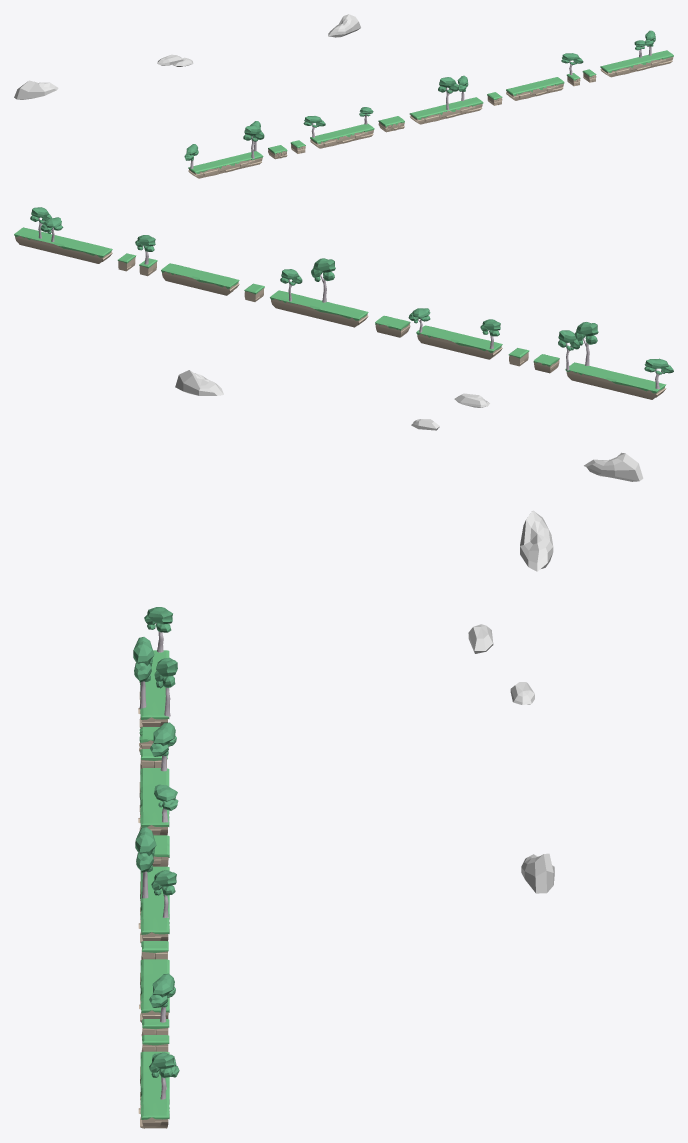
File: Level6.fbx
The picture shows the model from 3 angles, top to bottom: view 1: azimuth 30°, elevation 25°; view 2: azimuth 150°, elevation 25°; view 3: azimuth 270°, elevation 25°; orthographic projection. The views are drawn at different scales.
Parts seen in each view (by area): view 1: pCube42, pCube47, pCube52, pCube46, pCube49, pSphere6, pSphere9, pCube43, polySurface7, polySurface11; view 2: pCube42, pCube47, pCube52, pCube46, pCube49, pSphere6, pSphere9, pCube43, polySurface11, polySurface7; view 3: pCube52, pCube47, pCube46, pSphere6, pCube42, pCube49, pSphere9, polySurface7, polySurface11.
Boxes of the visible parts, x1=… form: pCube42: x1=188, y1=151, x2=263, y2=178; pCube47: x1=409, y1=97, x2=483, y2=124; pCube52: x1=600, y1=50, x2=673, y2=77; pCube46: x1=310, y1=123, x2=374, y2=148; pCube49: x1=506, y1=77, x2=564, y2=100; pSphere6: x1=14, y1=80, x2=58, y2=99; pSphere9: x1=328, y1=14, x2=360, y2=37; pCube43: x1=378, y1=116, x2=404, y2=132; polySurface7: x1=243, y1=125, x2=264, y2=158; polySurface11: x1=438, y1=77, x2=458, y2=110; pCube42: x1=565, y1=362, x2=666, y2=399; pCube47: x1=270, y1=290, x2=368, y2=327; pCube52: x1=14, y1=227, x2=112, y2=263; pCube46: x1=416, y1=325, x2=502, y2=359; pCube49: x1=161, y1=263, x2=239, y2=295; pSphere6: x1=584, y1=452, x2=643, y2=481; pSphere9: x1=175, y1=370, x2=223, y2=395; pCube43: x1=375, y1=315, x2=410, y2=337; polySurface11: x1=311, y1=258, x2=335, y2=302; polySurface7: x1=574, y1=322, x2=598, y2=365; pCube52: x1=138, y1=1051, x2=169, y2=1128; pCube47: x1=138, y1=866, x2=169, y2=942; pCube46: x1=138, y1=768, x2=169, y2=835; pSphere6: x1=520, y1=510, x2=553, y2=571; pCube42: x1=138, y1=650, x2=169, y2=727; pCube49: x1=139, y1=959, x2=169, y2=1022; pSphere9: x1=521, y1=853, x2=554, y2=893; polySurface7: x1=133, y1=637, x2=154, y2=708; polySurface11: x1=135, y1=827, x2=156, y2=898.
Bounding box in the file's own units: 335 × 26.88 × 109.
